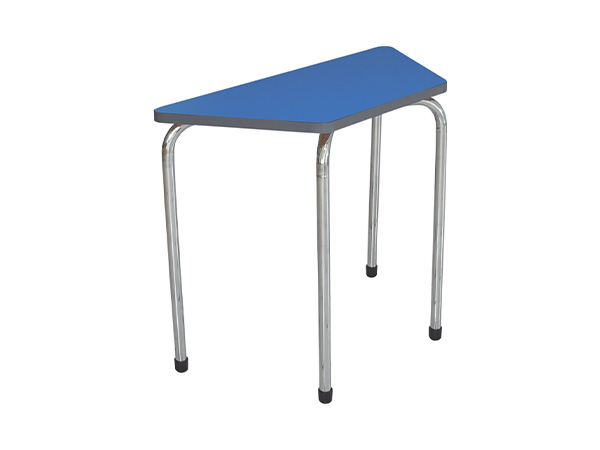m01: (154, 46, 448, 404)
